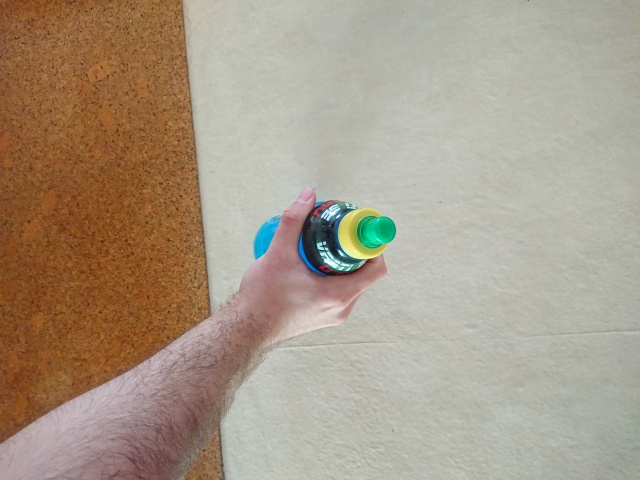Vindi Iso Sport Forest Strawberries 500mL: (250, 197, 397, 283)
